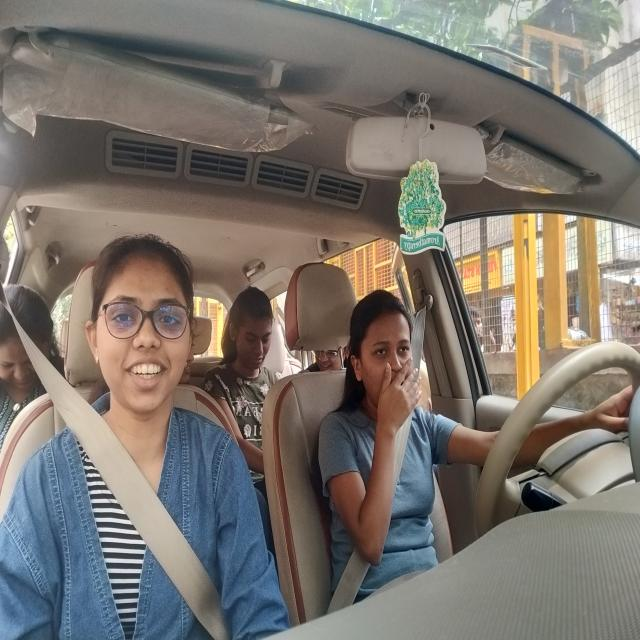drowsy: (341, 292, 430, 423)
person: (91, 227, 196, 416), (1, 292, 48, 410), (233, 262, 276, 376)
